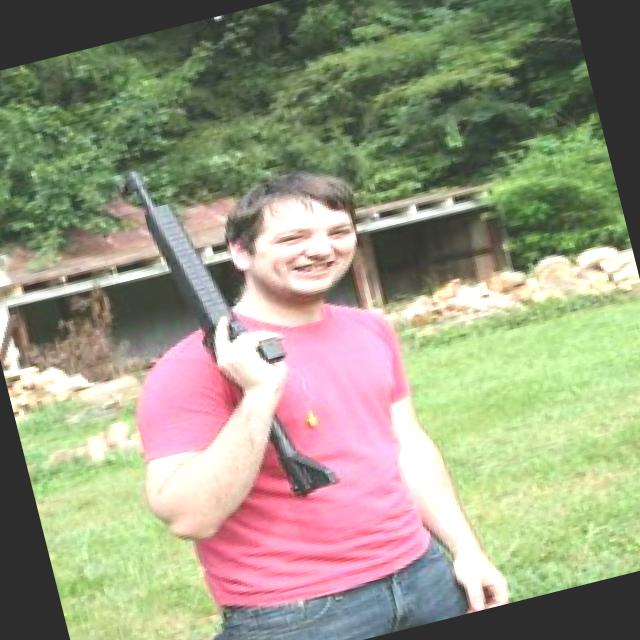long weapon: (108, 130, 348, 536)
